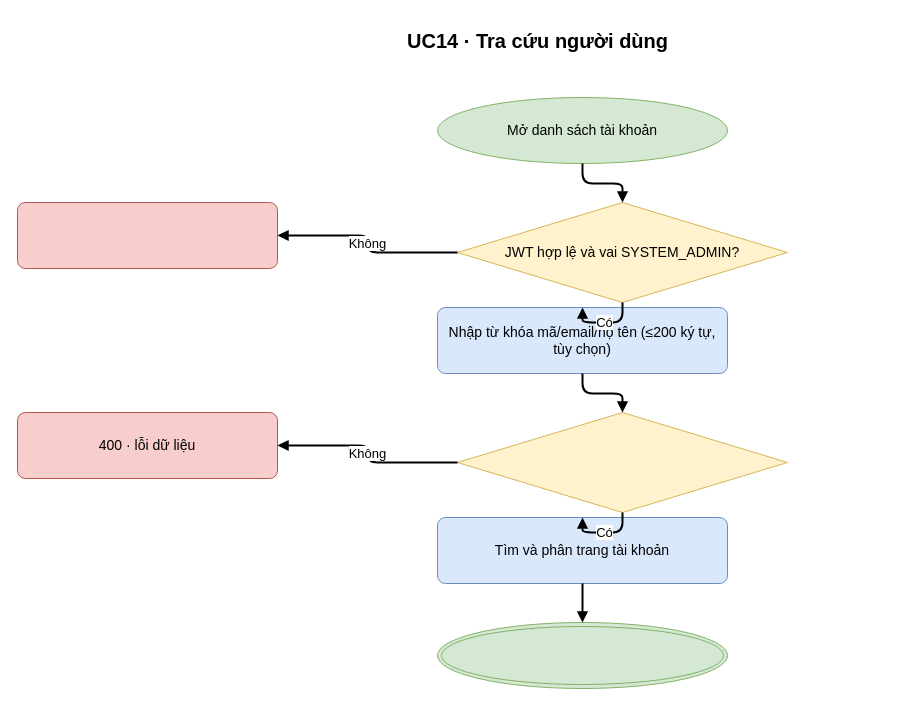
This 905x706 diagram has some shape labels left out. The centre of each missing label's shape, as x and y in pixels:
401/403 · từ chối: (147,235)
Hiển thị vai, đơn vị, trạng thái: (582,655)
Từ khóa hợp lệ?: (622,462)
